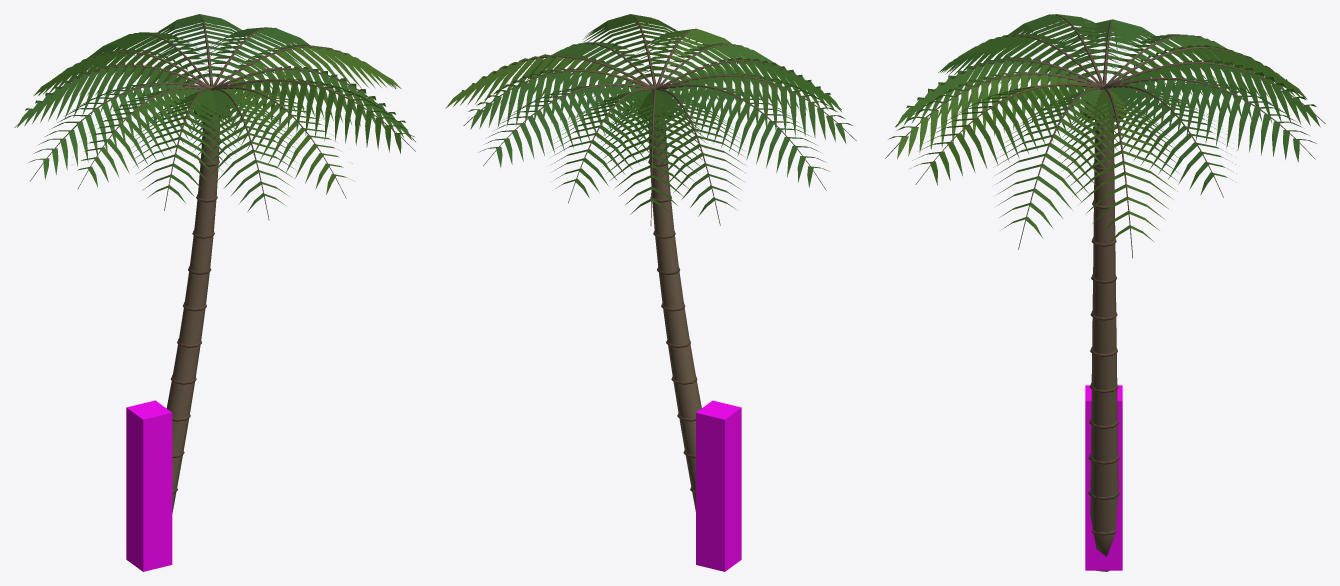
Rendered from PRP_Palm_Coconut_B.glb.
3 renders of one model, left to right at view 1: azimuth 30°, elevation 25°; view 2: azimuth 150°, elevation 25°; view 3: azimuth 270°, elevation 25°, orthographic. The views are drawn at different scales.
Parts seen in each view (by area): view 1: PRP_Palm_Coconut_B_Mesh, COL_Trunk; view 2: PRP_Palm_Coconut_B_Mesh, COL_Trunk; view 3: PRP_Palm_Coconut_B_Mesh, COL_Trunk.
Part boxes in pixels (left/top/right/bottom): PRP_Palm_Coconut_B_Mesh: left=14, top=14, right=415, bottom=513; COL_Trunk: left=126, top=400, right=172, bottom=571; PRP_Palm_Coconut_B_Mesh: left=445, top=14, right=856, bottom=511; COL_Trunk: left=696, top=400, right=741, bottom=571; PRP_Palm_Coconut_B_Mesh: left=885, top=14, right=1325, bottom=571; COL_Trunk: left=1085, top=385, right=1122, bottom=570.
Size of the model in its own units: 7.71 by 9.52 by 7.07.
